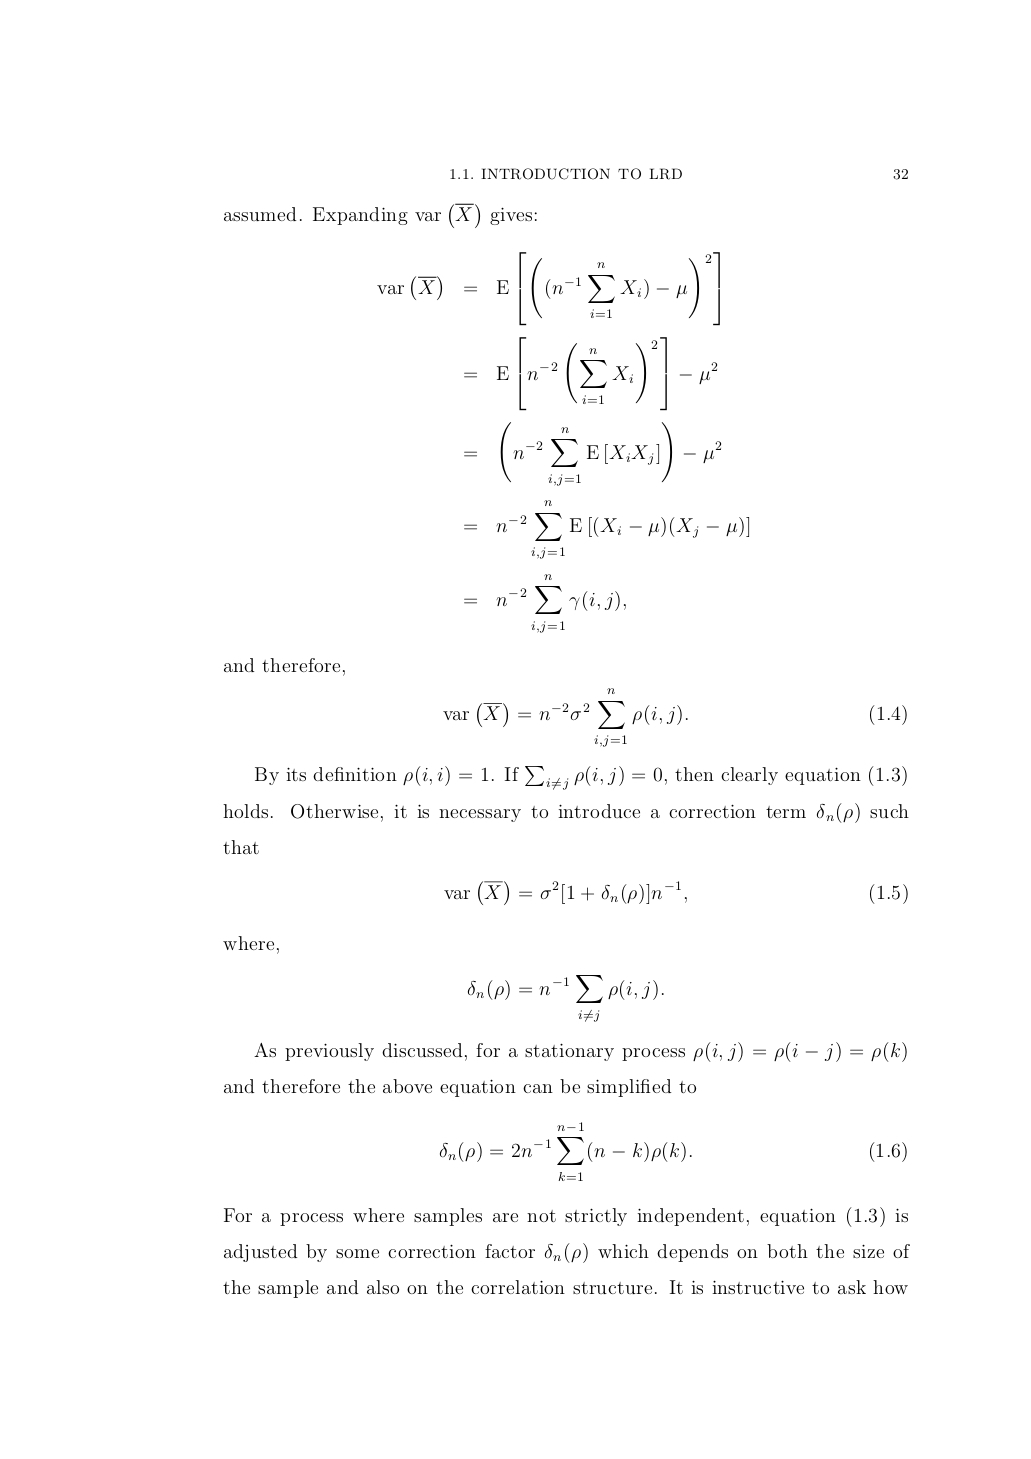formula: (439, 1122, 906, 1180), (443, 688, 906, 746), (377, 251, 719, 326), (464, 335, 717, 410), (464, 421, 721, 486), (464, 500, 749, 558), (444, 880, 907, 905), (464, 574, 625, 632), (468, 975, 663, 1021)
